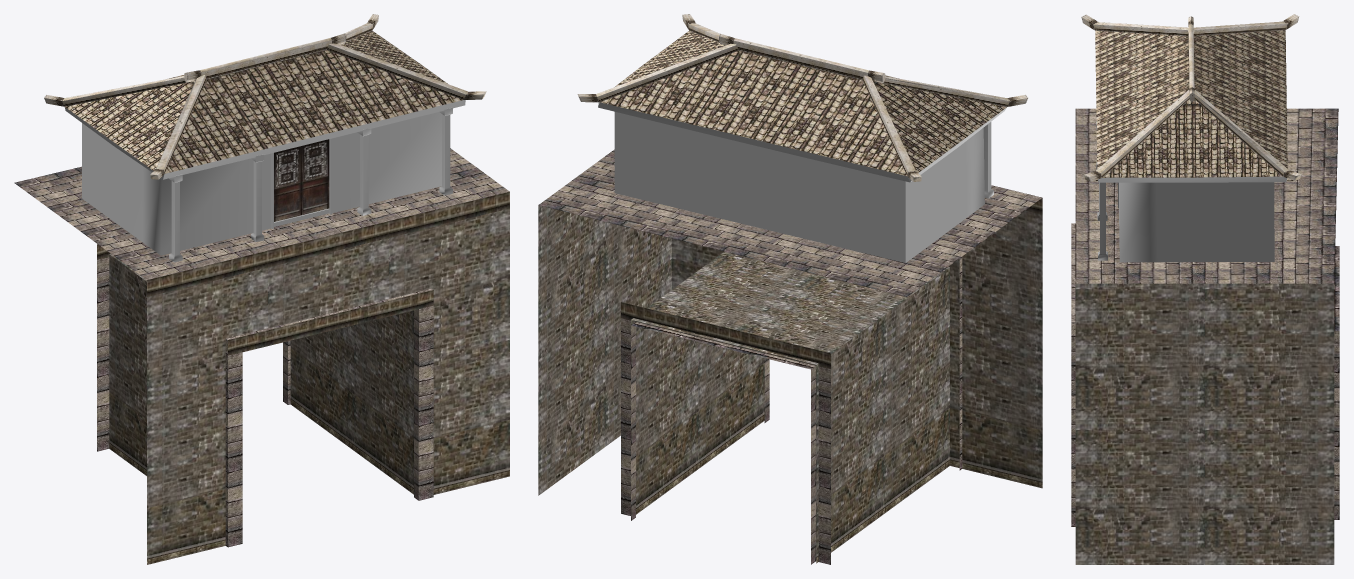
The model's file is menlou.FBX.
3 renders of one model, left to right at view 1: azimuth 30°, elevation 25°; view 2: azimuth 150°, elevation 25°; view 3: azimuth 270°, elevation 25°, orthographic. The views are drawn at different scales.
Visible parts, largest first — view 1: R24, Btf16; view 2: R24, Btf16; view 3: R24, Btf16.
Part boxes in pixels (<box>): R24: <box>14,148,509,564</box>; Btf16: <box>44,14,486,262</box>; R24: <box>538,149,1042,564</box>; Btf16: <box>577,14,1027,262</box>; R24: <box>1071,108,1339,564</box>; Btf16: <box>1081,14,1301,262</box>.
Bounding box in the file's own units: 400 × 449 × 259.
